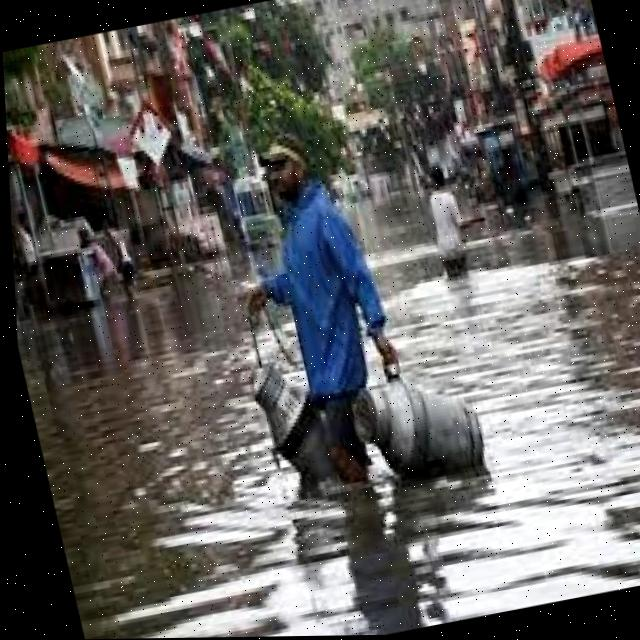civilian: (192, 98, 477, 550), (404, 152, 501, 308)
